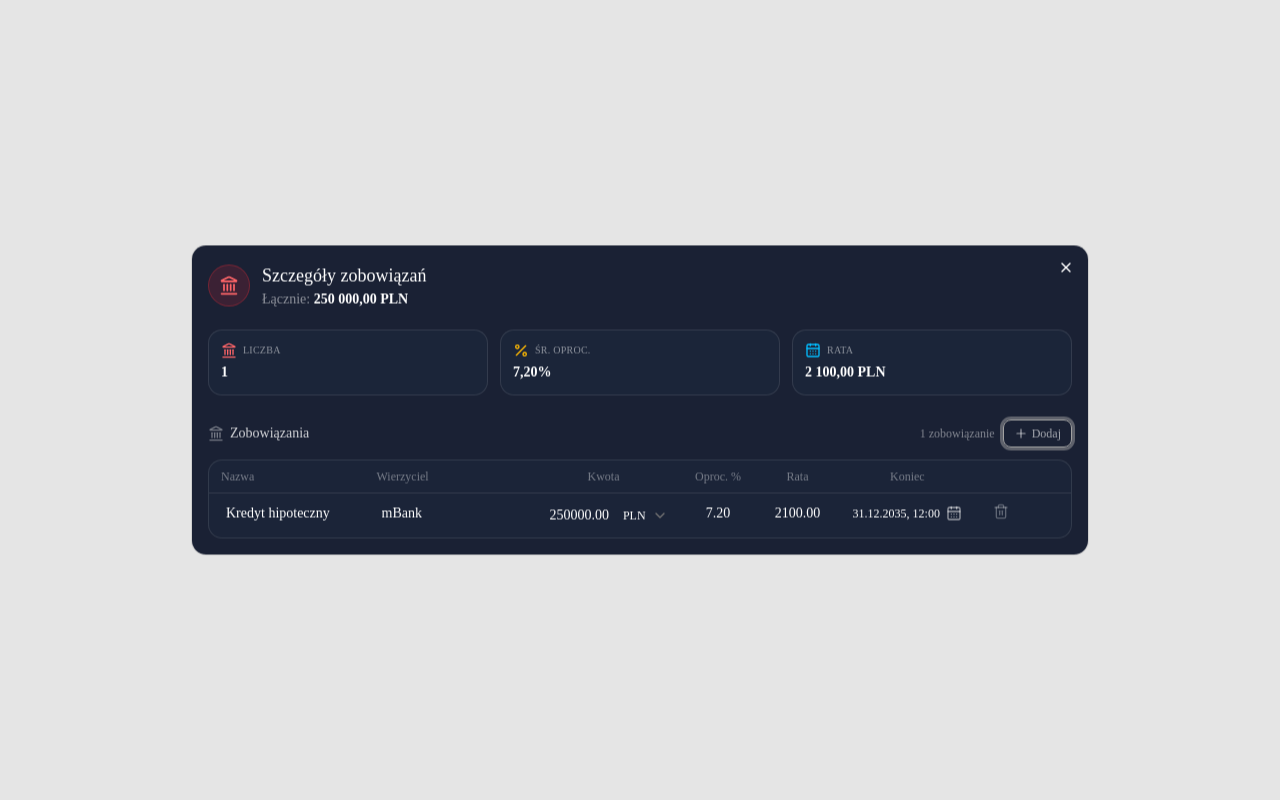
Scenario: DebtsDialog › keeps validation feedback on the edited row when required debt fields are cleared
Clear the 1st field showing "Kredyt hipoteczny" at [289, 514], box [221, 500, 356, 528]
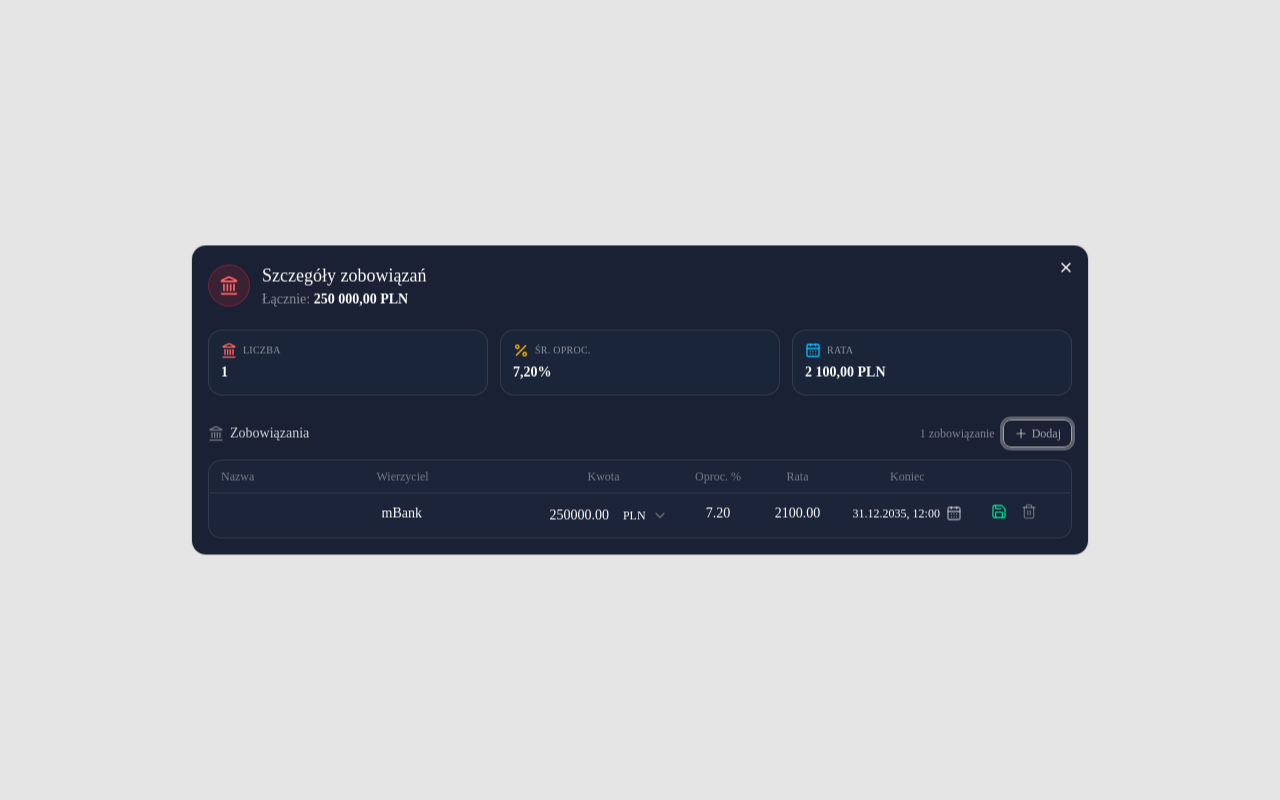
Expected: the row "PLN 31.12.2035, 12:00" is shown, [209, 493, 1071, 538]
Click the 4th button.
click(999, 512)  # box [987, 500, 1011, 524]
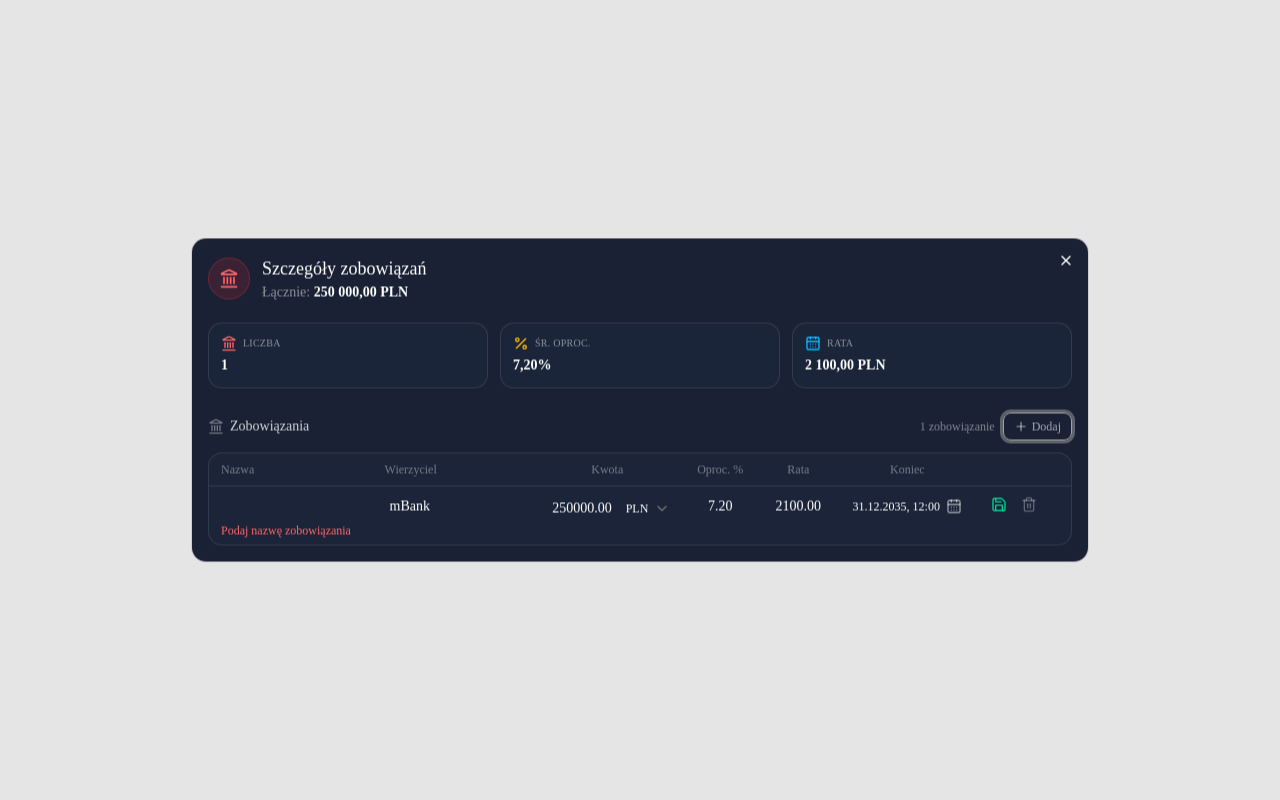
Now the text "Podaj nazwę zobowiązania" is shown, box [221, 522, 365, 538]
